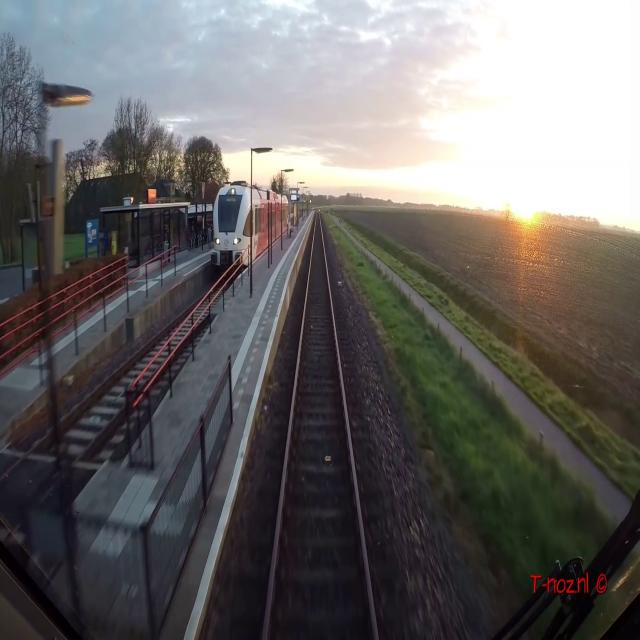rail-track: (0, 294, 208, 543), (267, 212, 373, 639)
